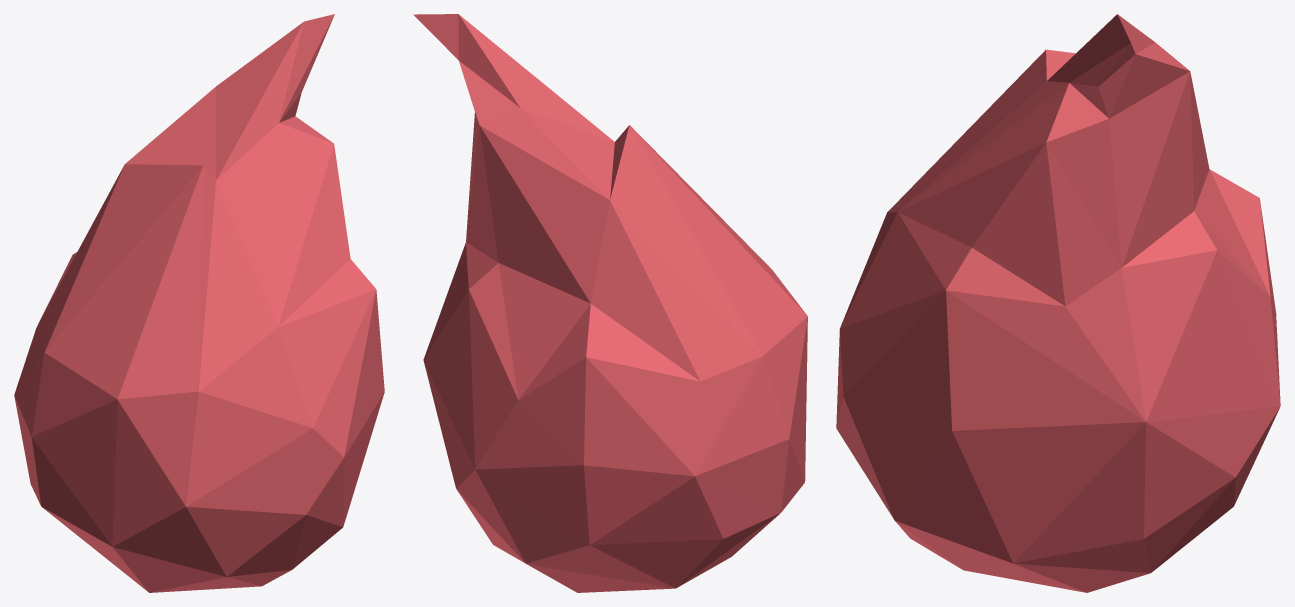
Rendered from Fire.fbx.
3 views of the same model, side by side, from view 1: azimuth 30°, elevation 25°; view 2: azimuth 150°, elevation 25°; view 3: azimuth 270°, elevation 25° (orthographic). The views are drawn at different scales.
Parts seen in each view (by area): view 1: Sphere.001; view 2: Sphere.001; view 3: Sphere.001.
Boxes of the visible parts, x1,y1,x2,y2 form: Sphere.001: (14,14,384,592); Sphere.001: (413,14,807,592); Sphere.001: (836,14,1280,592).
Bounding box in the file's own units: 251 × 375 × 237.
